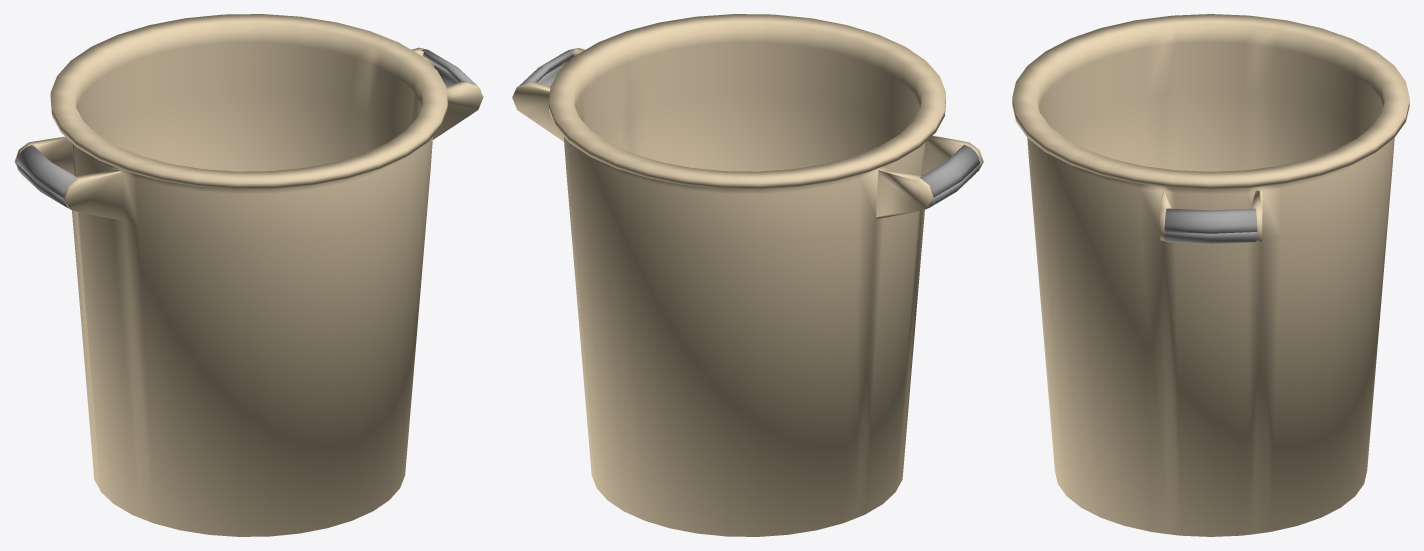
The model's file is Lixo_Privada.fbx.
3 views of the same model, side by side, from view 1: azimuth 30°, elevation 25°; view 2: azimuth 150°, elevation 25°; view 3: azimuth 270°, elevation 25° (orthographic).
Visible parts, largest first — view 1: Circle, Circle.001; view 2: Circle, Circle.001; view 3: Circle, Circle.001.
Boxes of the visible parts, box(x1,y1,x2,y2) form: Circle: box(14, 14, 483, 536); Circle.001: box(16, 49, 480, 208); Circle: box(512, 14, 983, 536); Circle.001: box(519, 49, 979, 209); Circle: box(1012, 14, 1409, 536); Circle.001: box(1164, 208, 1257, 243).
Bounding box in the file's own units: 366 × 307 × 296.
